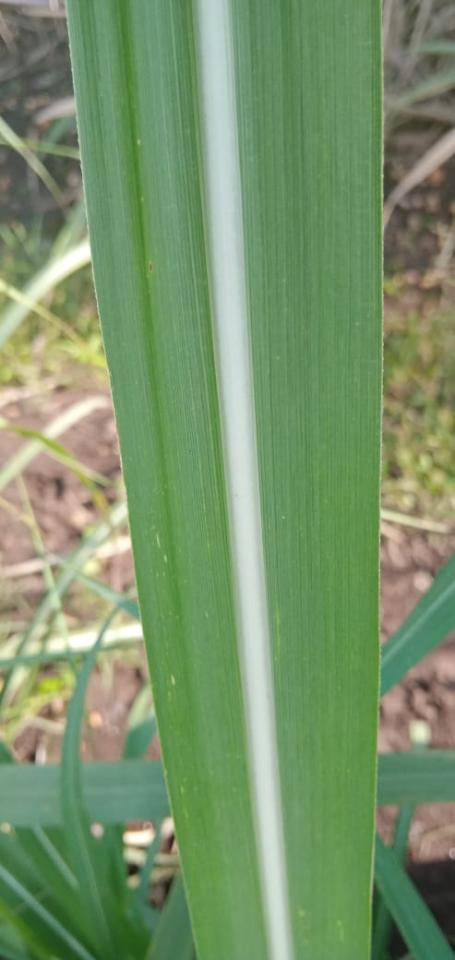Healthy: (62, 0, 270, 959), (232, 0, 381, 959)
